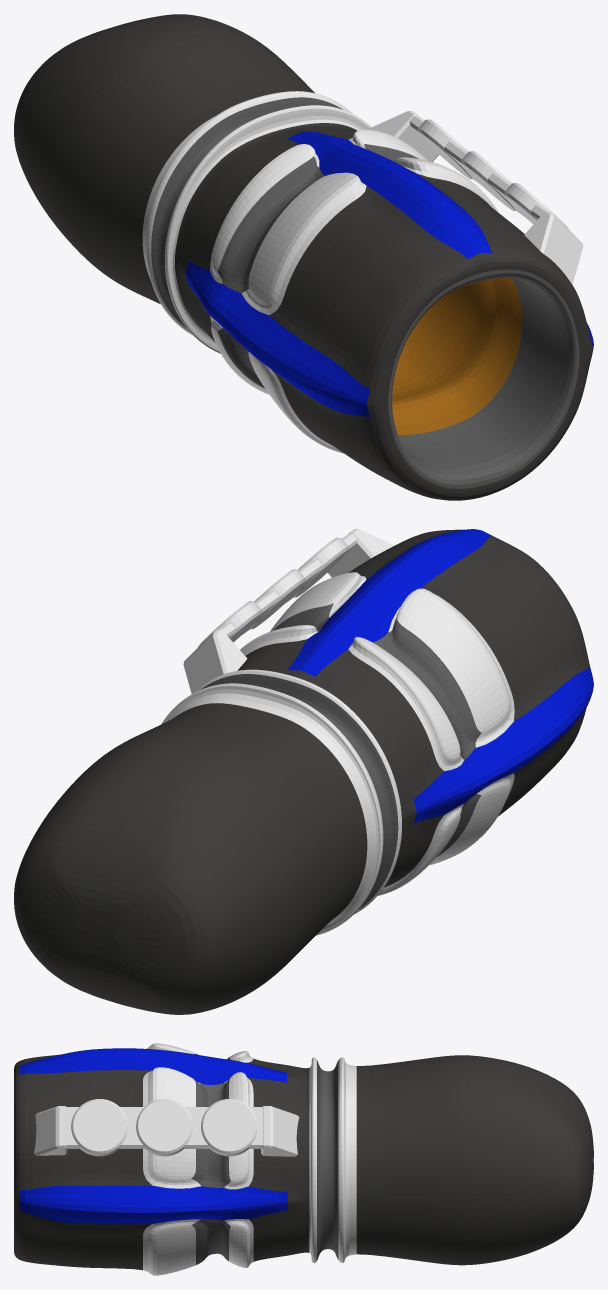
File: arm_cannnon.fbx
3 views of the same model, one above another, from view 1: azimuth 30°, elevation 25°; view 2: azimuth 150°, elevation 25°; view 3: azimuth 270°, elevation 25° (orthographic). The views are drawn at different scales.
Parts seen in each view (by area): view 1: Cylinder, Cube; view 2: Cylinder, Cube; view 3: Cylinder, Cube.
Boxes of the visible parts, bbox=[...] form: Cylinder: bbox=[14, 14, 593, 500]; Cube: bbox=[367, 111, 583, 284]; Cylinder: bbox=[14, 529, 593, 1014]; Cube: bbox=[183, 529, 394, 693]; Cylinder: bbox=[14, 1043, 593, 1275]; Cube: bbox=[34, 1099, 299, 1156].
Bounding box in the file's own units: 15.94 × 15.42 × 37.11.
